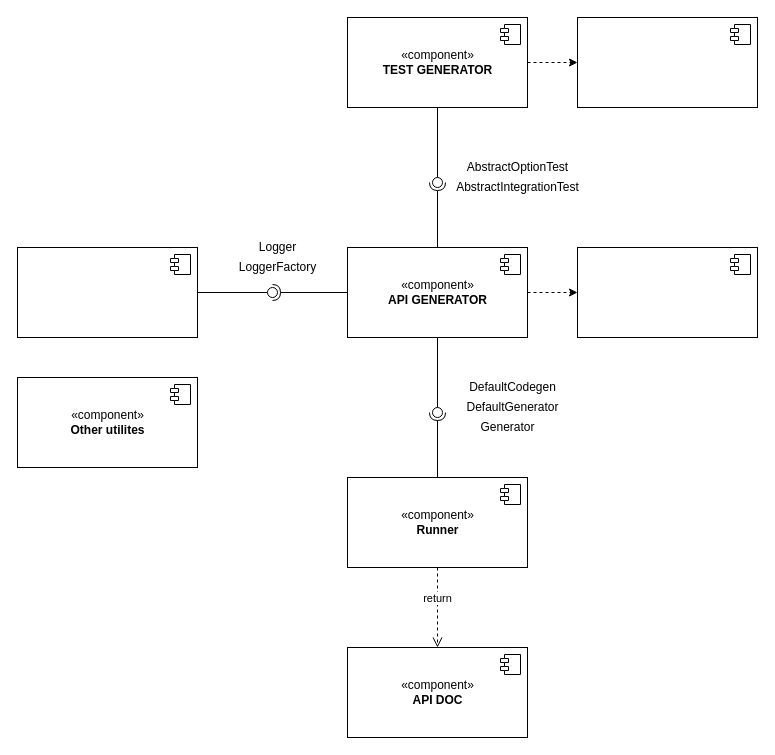
Some shapes in this 775 by 755 pixel diagram are drawn without their labels. The box of each missing label's shape, as (x1, y1, x2, y2) in pixels:
«component» API mutator: (576, 246, 758, 338)
«component» EXEC CONFIG: (16, 246, 198, 338)
«component» TEST mutator: (576, 16, 758, 108)
